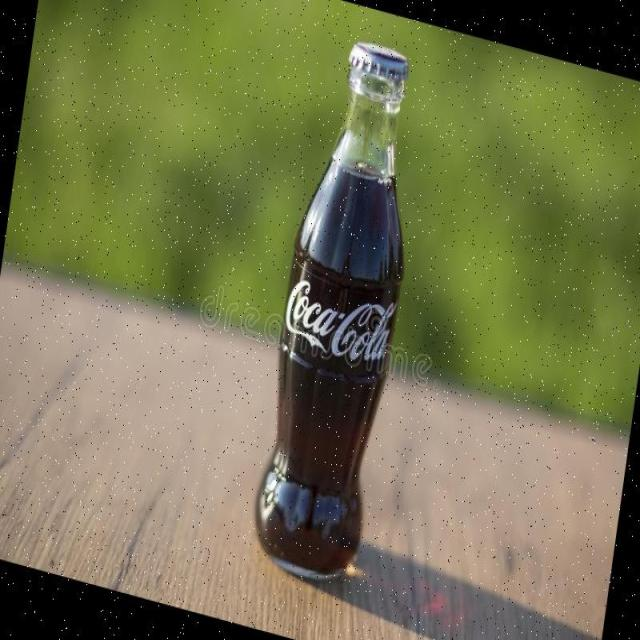coca-cola: (242, 18, 438, 587)
